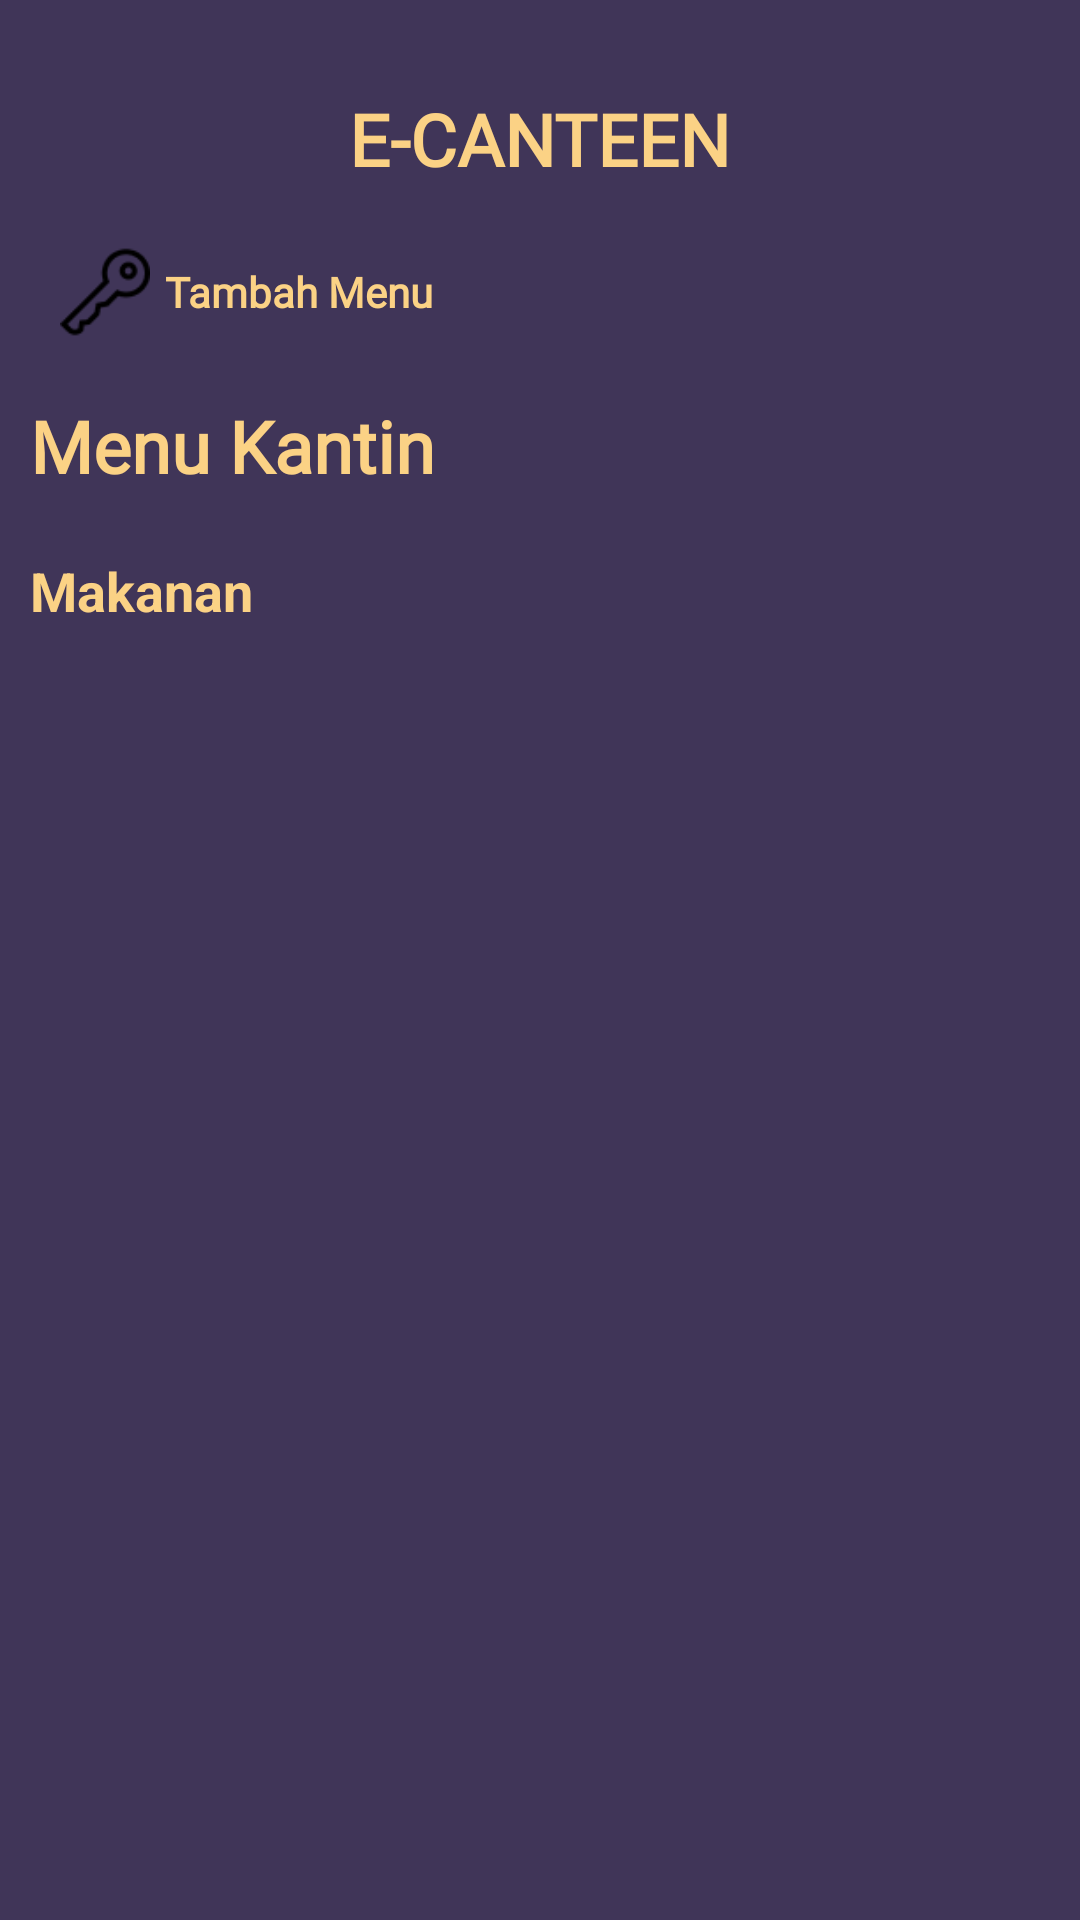

Icons on this 1080px×1920px Android screen, each with the point to tap as (x=x, y=y):
key: (x=105, y=292)
